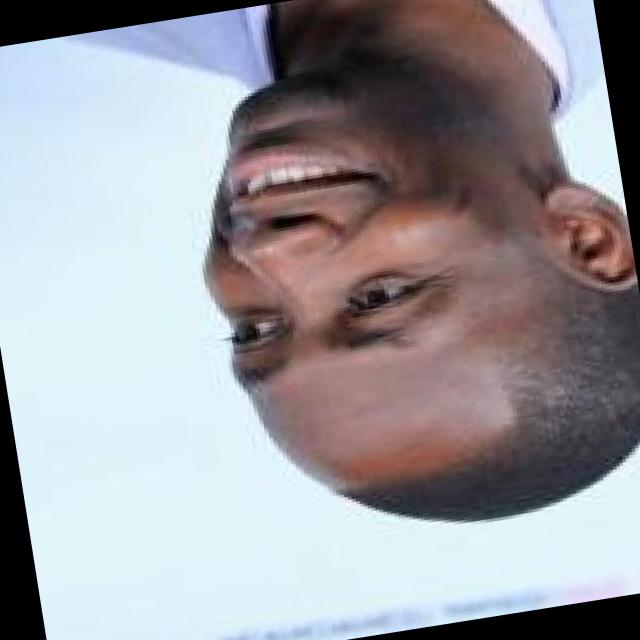bareface: (170, 37, 600, 500)
